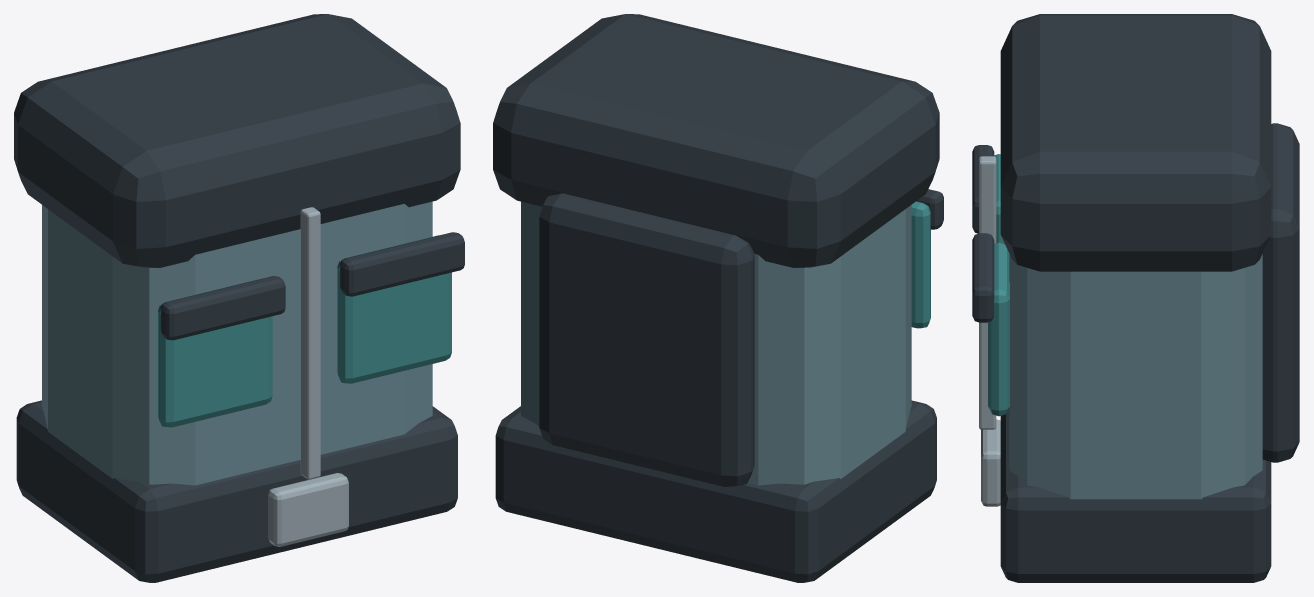
Rendered from torso.glb.
3 views of the same model, side by side, from view 1: azimuth 30°, elevation 25°; view 2: azimuth 150°, elevation 25°; view 3: azimuth 270°, elevation 25° (orthographic).
Visible parts, largest first — view 1: Shoulder panel, Jacket body, Utility belt, Chest pocket.001, Chest pocket, Zip seam, Pocket flap, Pocket flap.001, Buckle; view 2: Shoulder panel, Rear utility panel, Jacket body, Utility belt, Chest pocket, Pocket flap; view 3: Shoulder panel, Jacket body, Utility belt, Rear utility panel, Chest pocket.001, Zip seam, Pocket flap.001, Buckle, Pocket flap, Chest pocket.
Part boxes in pixels (bbox=[...]): Shoulder panel: bbox=[14, 14, 460, 267]; Jacket body: bbox=[42, 201, 432, 485]; Utility belt: bbox=[16, 400, 457, 582]; Chest pocket.001: bbox=[337, 235, 451, 383]; Chest pocket: bbox=[158, 279, 272, 427]; Zip seam: bbox=[300, 207, 320, 479]; Pocket flap: bbox=[160, 276, 285, 340]; Pocket flap.001: bbox=[340, 232, 464, 296]; Buckle: bbox=[268, 473, 348, 546]; Shoulder panel: bbox=[493, 14, 939, 267]; Rear utility panel: bbox=[539, 193, 754, 486]; Jacket body: bbox=[521, 201, 911, 485]; Utility belt: bbox=[495, 400, 936, 582]; Chest pocket: bbox=[911, 201, 930, 328]; Pocket flap: bbox=[916, 189, 943, 229]; Shoulder panel: bbox=[1000, 14, 1271, 271]; Jacket body: bbox=[1009, 254, 1262, 499]; Utility belt: bbox=[1000, 408, 1271, 582]; Rear utility panel: bbox=[1262, 123, 1299, 462]; Chest pocket.001: bbox=[988, 242, 1009, 416]; Zip seam: bbox=[979, 156, 996, 429]; Pocket flap.001: bbox=[972, 233, 994, 322]; Buckle: bbox=[981, 419, 1000, 506]; Pocket flap: bbox=[972, 145, 994, 233]; Chest pocket: bbox=[994, 154, 1004, 243].
Size of the model in its own units: 0.46 by 0.54 by 0.375.
